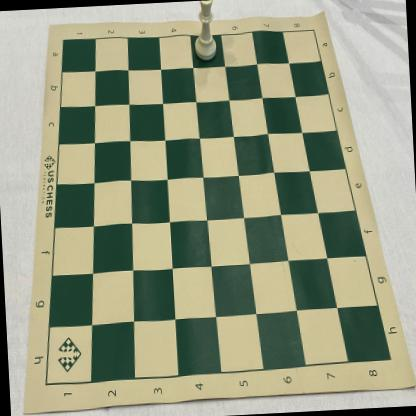king: (191, 0, 219, 63)
